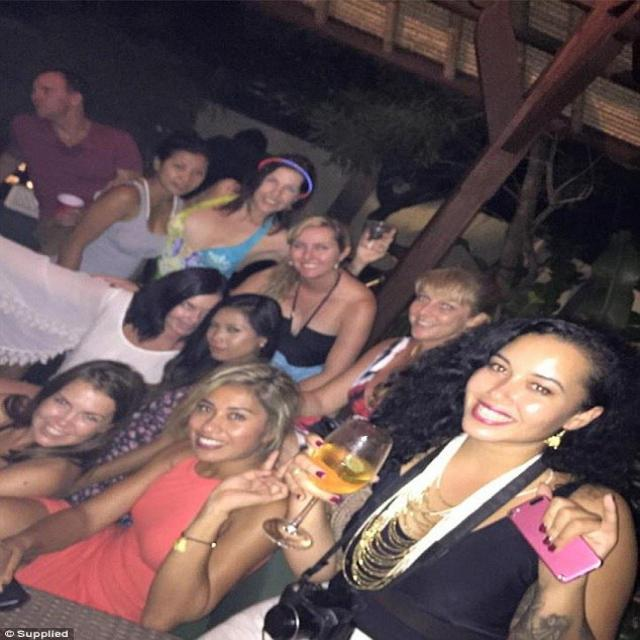person: (287, 314, 640, 640), (0, 356, 326, 636), (0, 359, 149, 592), (230, 212, 378, 422), (3, 64, 145, 270), (339, 267, 484, 461), (70, 127, 218, 286), (168, 152, 317, 286), (108, 264, 218, 376), (200, 284, 275, 372), (344, 220, 400, 292)
